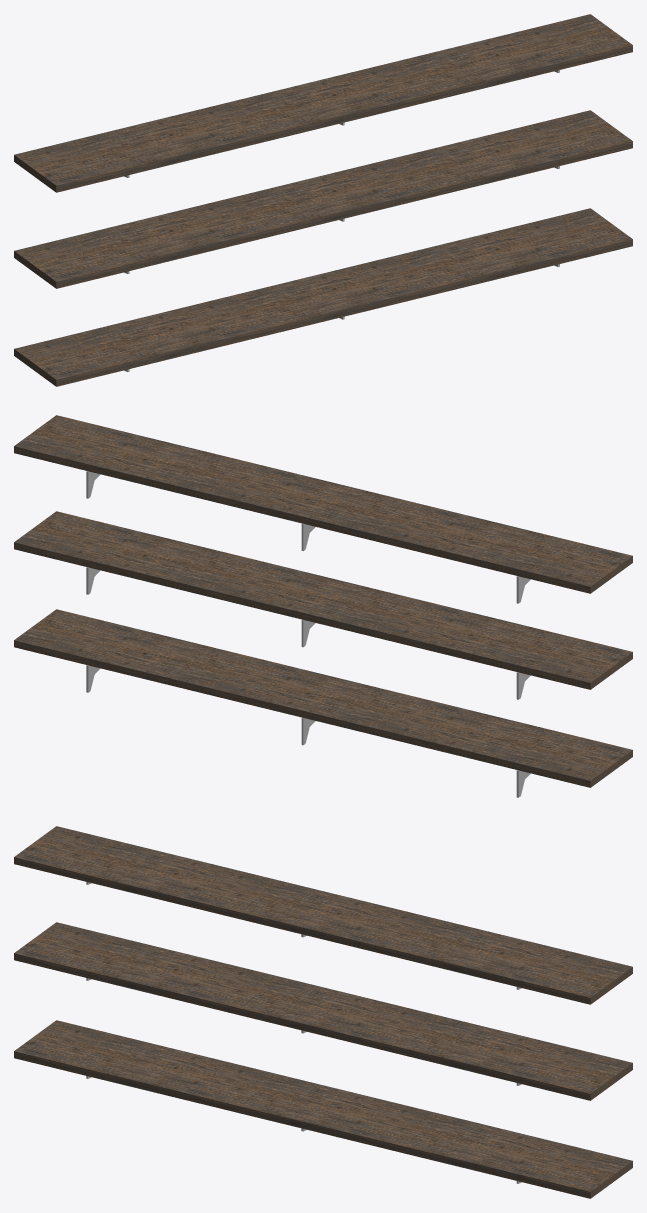
File: propShelves.fbx
3 views of the same model, one above another, from view 1: azimuth 30°, elevation 25°; view 2: azimuth 150°, elevation 25°; view 3: azimuth 330°, elevation 25° (orthographic).
Parts seen in each view (by area): view 1: propShelves; view 2: propShelves; view 3: propShelves.
Boxes of the visible parts, x1=… form: propShelves: x1=14, y1=14, x2=632, y2=386; propShelves: x1=14, y1=415, x2=632, y2=797; propShelves: x1=14, y1=826, x2=632, y2=1198.
Bounding box in the file's own units: 236 × 89.35 × 30.27.
2 materials, 2 textured.
